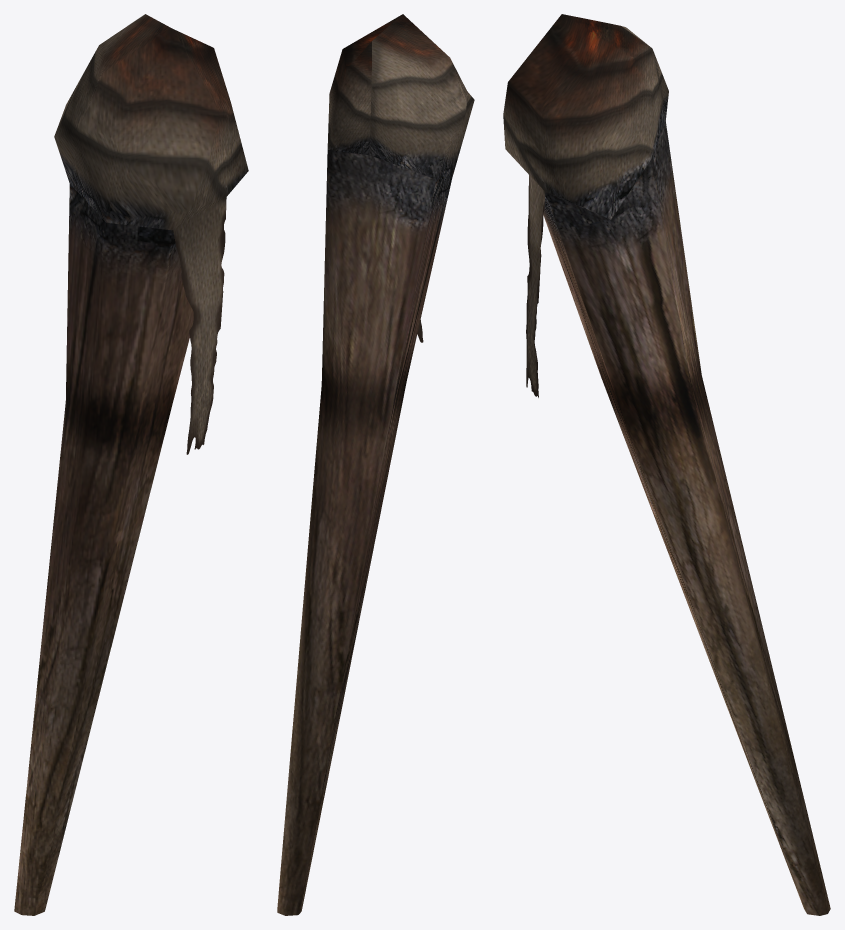
File: handableTorch.FBX
The picture shows the model from 3 angles, left to right: view 1: azimuth 30°, elevation 25°; view 2: azimuth 150°, elevation 25°; view 3: azimuth 270°, elevation 25°; orthographic projection. The views are drawn at different scales.
Visible parts, largest first — view 1: d_torch-v2; view 2: d_torch-v2; view 3: d_torch-v2.
Boxes of the visible parts, bbox=[...] form: d_torch-v2: bbox=[14, 14, 248, 915]; d_torch-v2: bbox=[277, 14, 474, 915]; d_torch-v2: bbox=[503, 14, 830, 915].
Size of the model in its own units: 10.64 by 59.51 by 19.69.
Materials: 1 (1 with a texture image).
